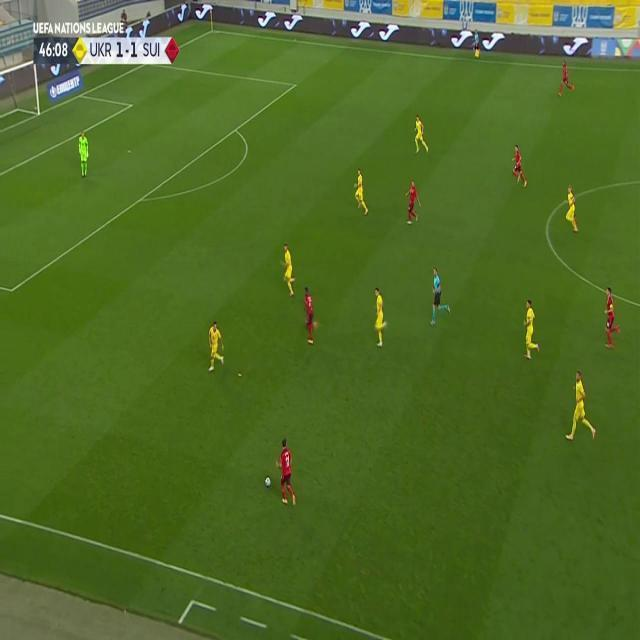ball: (264, 475, 272, 488)
goalkeeper: (77, 128, 90, 178)
player: (565, 371, 598, 446), (275, 438, 297, 508), (602, 285, 620, 351), (522, 298, 541, 360), (206, 319, 226, 373), (372, 286, 389, 348), (280, 242, 297, 298), (302, 284, 317, 346), (353, 167, 370, 214), (564, 183, 580, 232), (511, 144, 528, 188), (412, 115, 429, 155), (406, 179, 421, 224), (557, 61, 574, 99)
referee: (429, 267, 449, 329), (472, 30, 480, 60)
